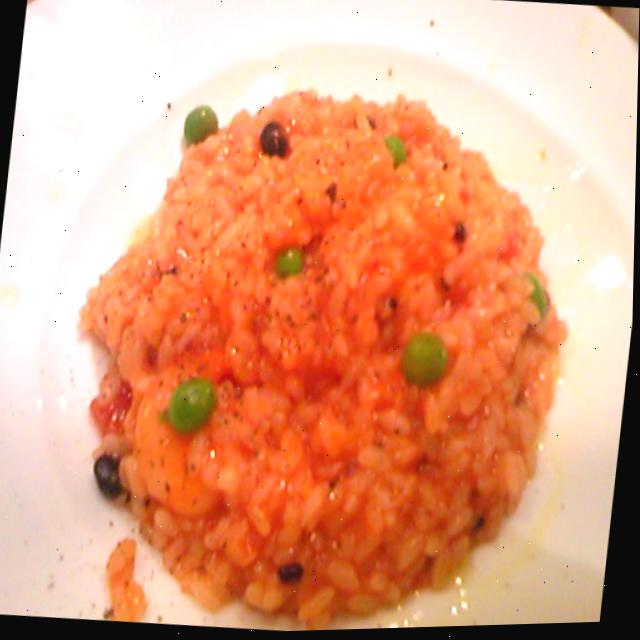米饭主食: (43, 41, 621, 639)
